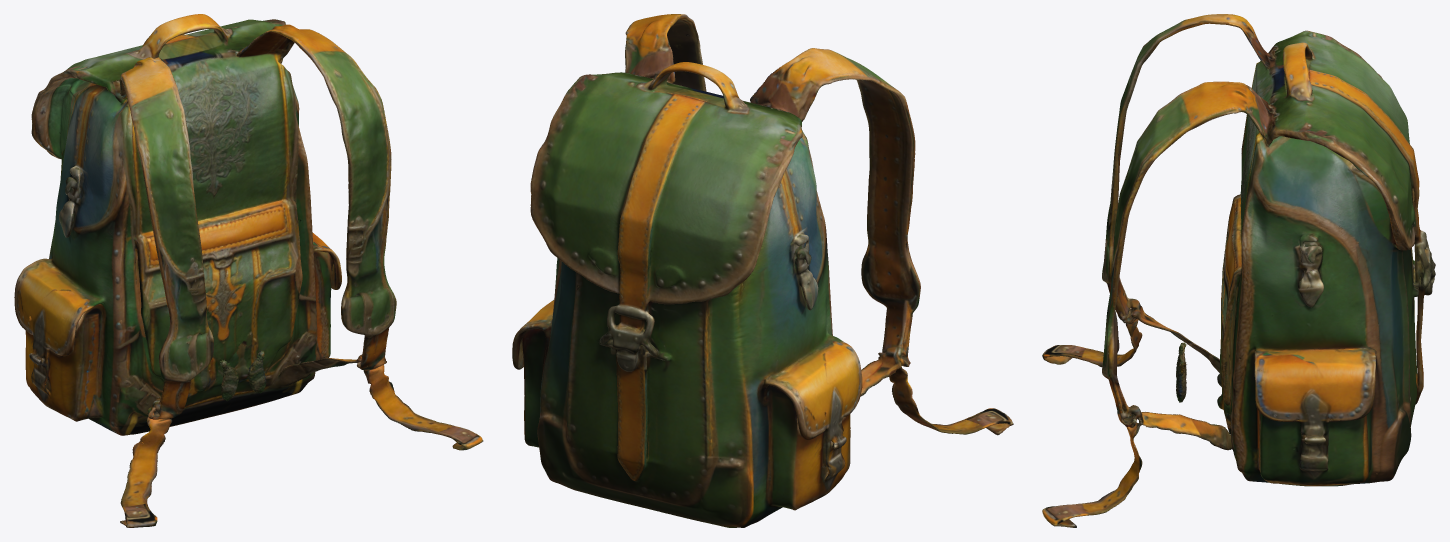
The model's file is StylizedBag.fbx.
3 views of the same model, side by side, from view 1: azimuth 30°, elevation 25°; view 2: azimuth 150°, elevation 25°; view 3: azimuth 270°, elevation 25° (orthographic). The views are drawn at different scales.
Parts seen in each view (by area): view 1: Mesh1_Mesh1.032; view 2: Mesh1_Mesh1.032; view 3: Mesh1_Mesh1.032.
Boxes of the visible parts, x1=… form: Mesh1_Mesh1.032: x1=14, y1=14, x2=483, y2=527; Mesh1_Mesh1.032: x1=512, y1=14, x2=1013, y2=527; Mesh1_Mesh1.032: x1=1042, y1=14, x2=1435, y2=527.
Size of the model in its own units: 191 by 200 by 178.
Materials: 1 (1 with a texture image).
